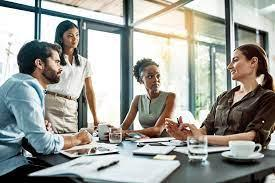No_Goggles: (63, 32, 79, 40)
